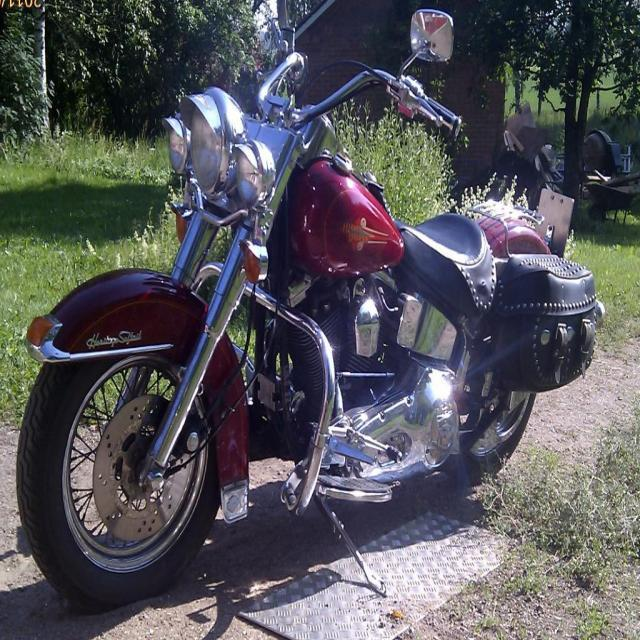bus: (13, 9, 604, 612)
